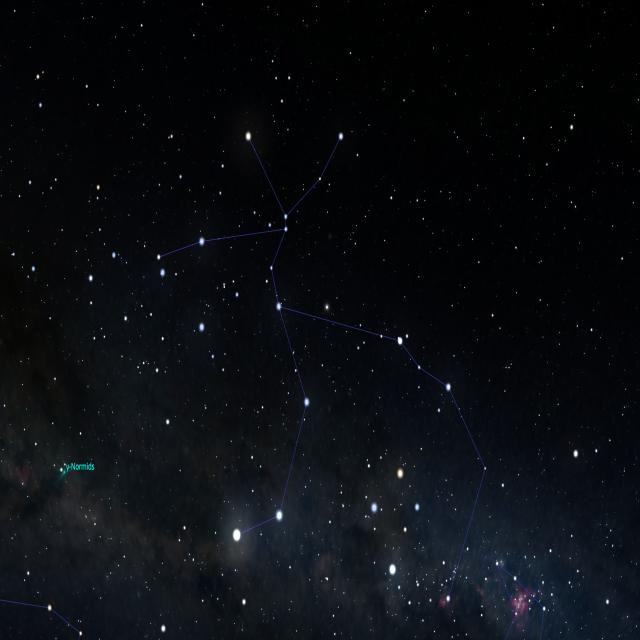Centaurus: (154, 128, 493, 609)
